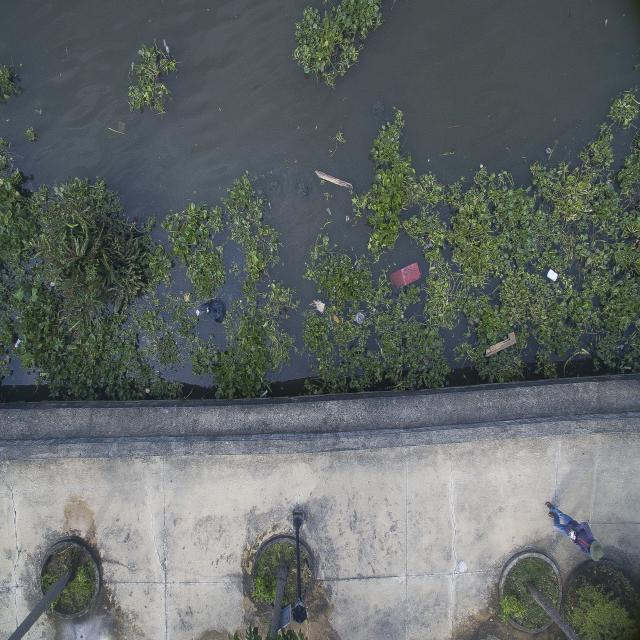plastic: (478, 324, 526, 364), (382, 261, 431, 294), (156, 32, 178, 70), (8, 326, 28, 359), (309, 296, 334, 322), (353, 300, 370, 334), (44, 273, 62, 294), (179, 290, 196, 309), (546, 268, 563, 284)
